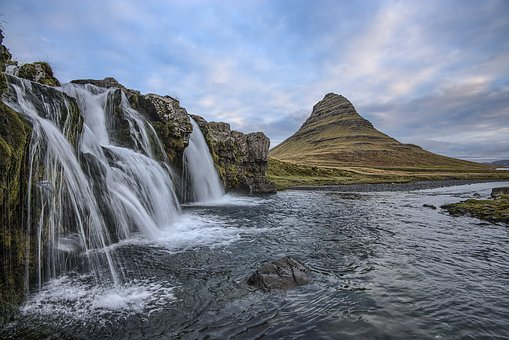lake: (130, 179, 508, 335)
mountain: (259, 99, 506, 183)
sky: (7, 1, 508, 95)
waterfall: (2, 76, 272, 339)
